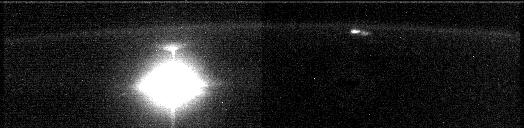positive: (157, 43, 185, 58)
